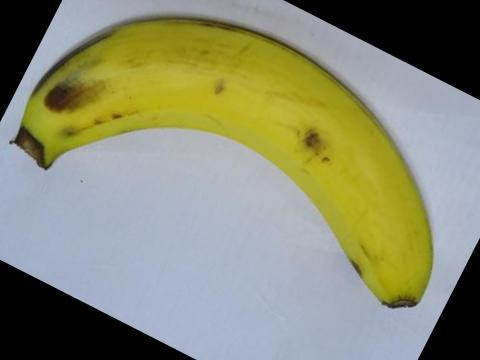freshripe: (5, 13, 441, 325)
